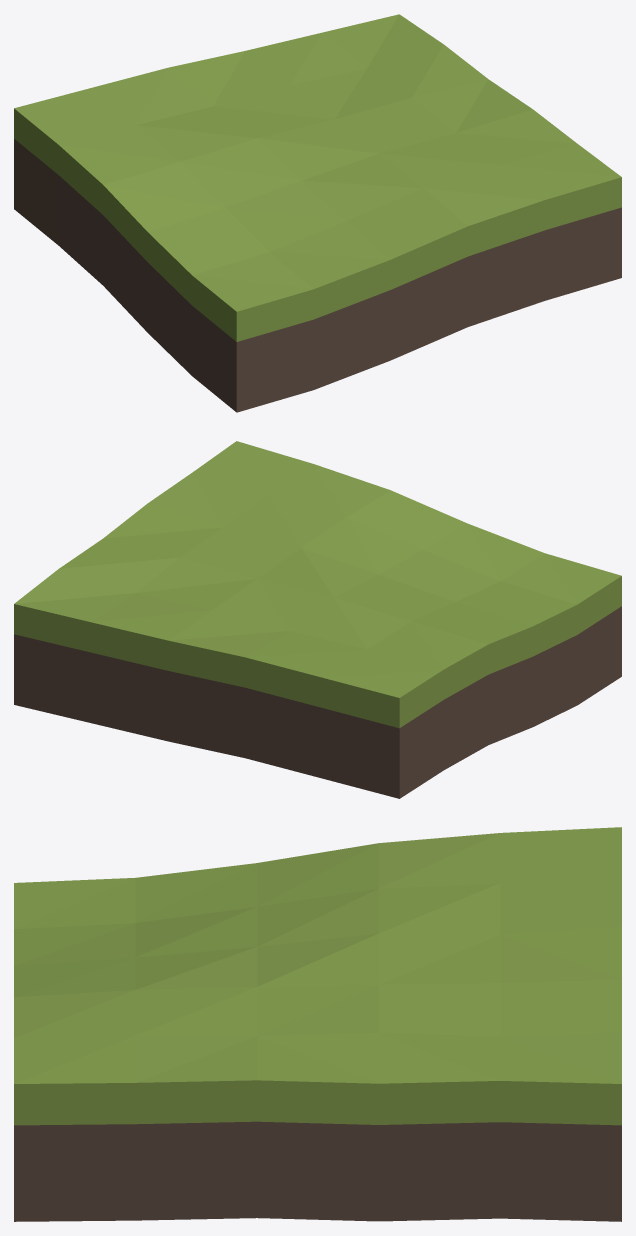
Rendered from terrain-world-valley_01-4.fbx.
3 renders of one model, top to bottom at view 1: azimuth 30°, elevation 25°; view 2: azimuth 150°, elevation 25°; view 3: azimuth 270°, elevation 25°, orthographic. The views are drawn at different scales.
Visible parts, largest first — view 1: terrain-world-valley_01-4; view 2: terrain-world-valley_01-4; view 3: terrain-world-valley_01-4.
Boxes of the visible parts, box(x1,y1,x2,y2) form: terrain-world-valley_01-4: box(14, 14, 621, 412); terrain-world-valley_01-4: box(14, 441, 621, 798); terrain-world-valley_01-4: box(14, 827, 621, 1221).
Size of the model in its own units: 20 by 20 by 7.17.
